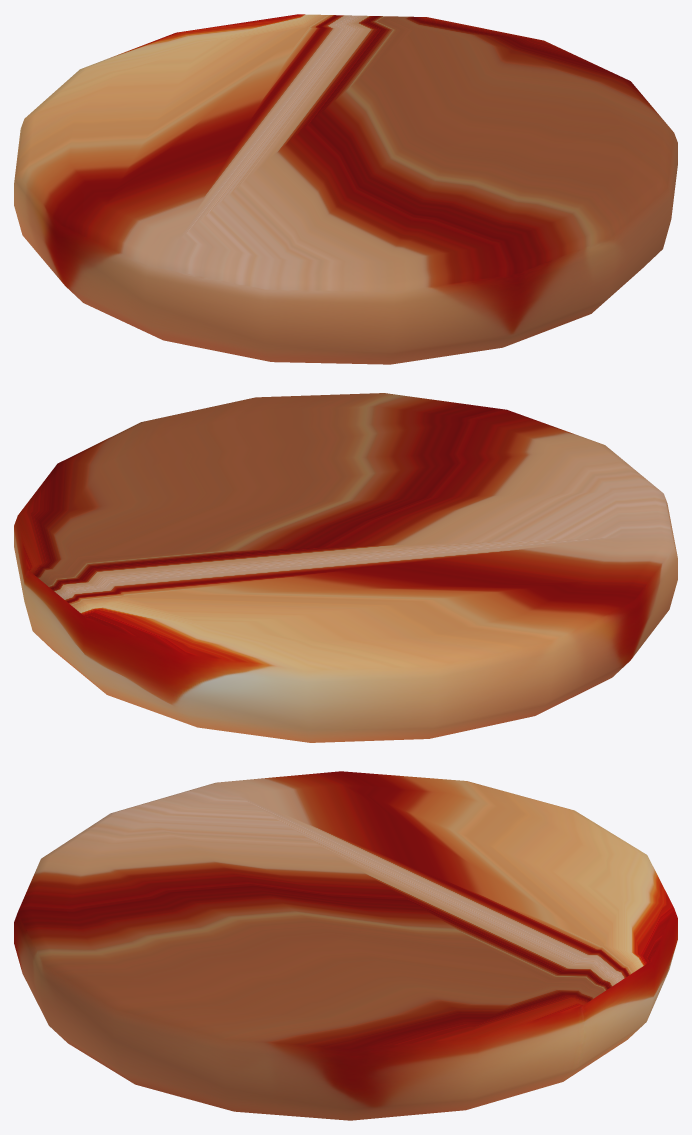
The model's file is bun_buttom.glb.
3 renders of one model, top to bottom at view 1: azimuth 30°, elevation 25°; view 2: azimuth 150°, elevation 25°; view 3: azimuth 270°, elevation 25°, orthographic.
Visible parts, largest first — view 1: bun_bottom_5; view 2: bun_bottom_5; view 3: bun_bottom_5.
Boxes of the visible parts, x1=… form: bun_bottom_5: x1=14, y1=14, x2=677, y2=364; bun_bottom_5: x1=14, y1=393, x2=677, y2=742; bun_bottom_5: x1=14, y1=771, x2=677, y2=1120.
Bounding box in the file's own units: 0.6071 × 0.1023 × 0.6071.
Materials: 1 (1 with a texture image).
